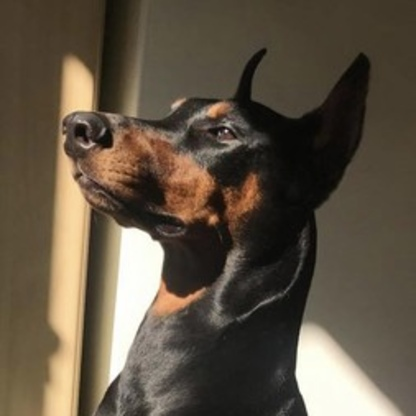doberman: (53, 44, 374, 416)
